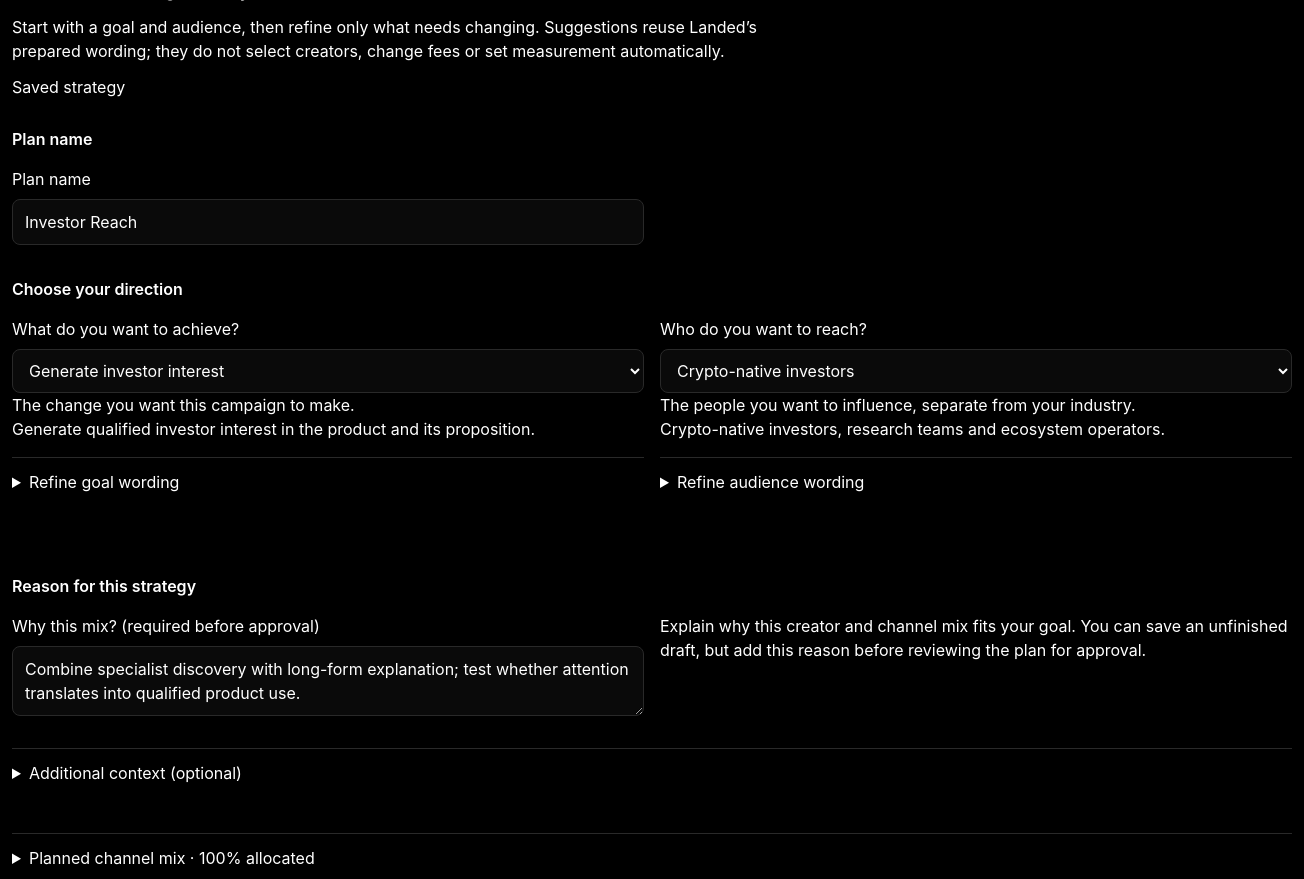
Test: BSK-08 rendered strategy editor › notifies the host only for confirmed saves (success=false)
The width and height of the screenshot is (1304, 879).
Replace the text in the field labelled "Plan name" with "Updated test plan": (328, 222) x1=12 y1=199 x2=644 y2=245
(page scrolled)
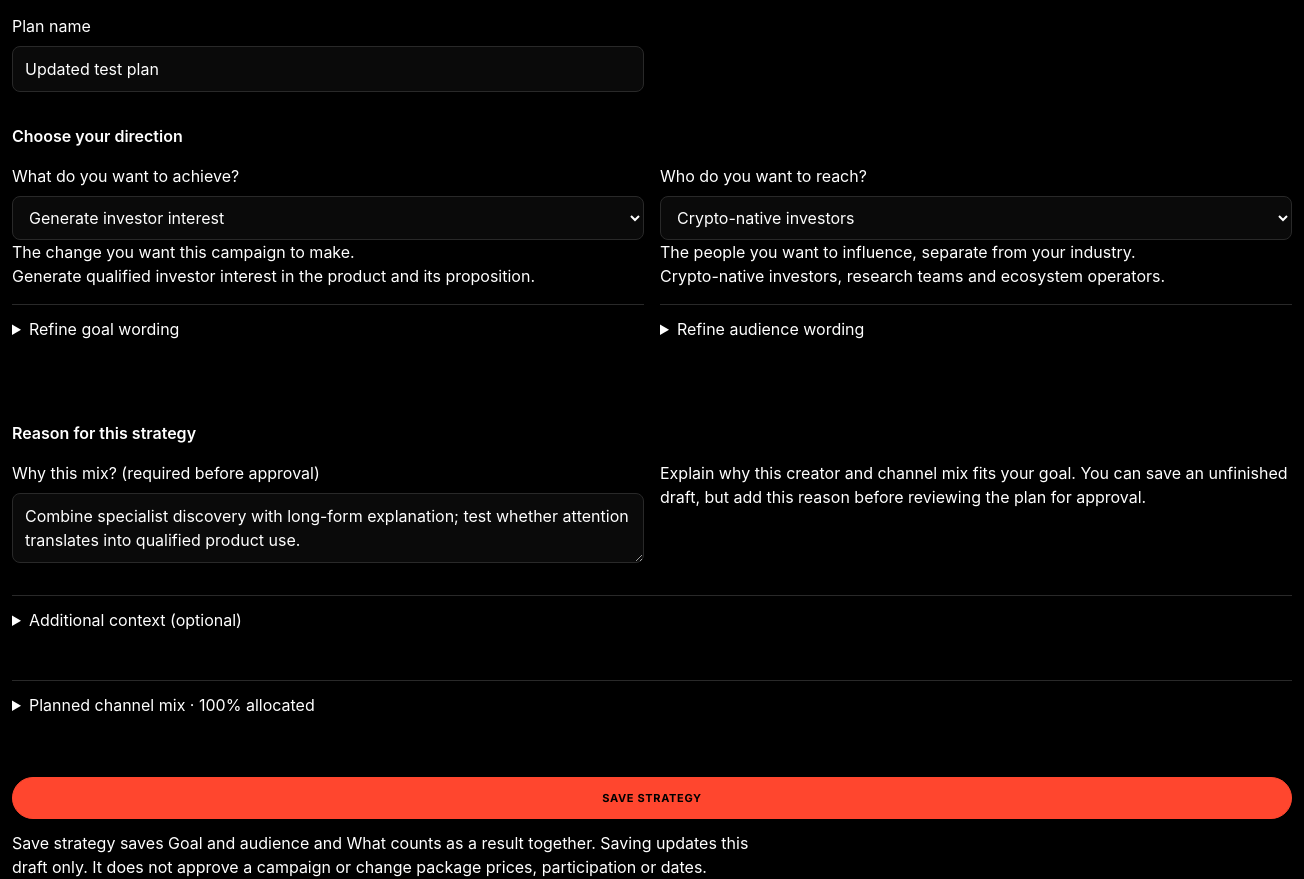
Click the button "Save strategy": (652, 798) x1=12 y1=777 x2=1292 y2=819
(page scrolled)
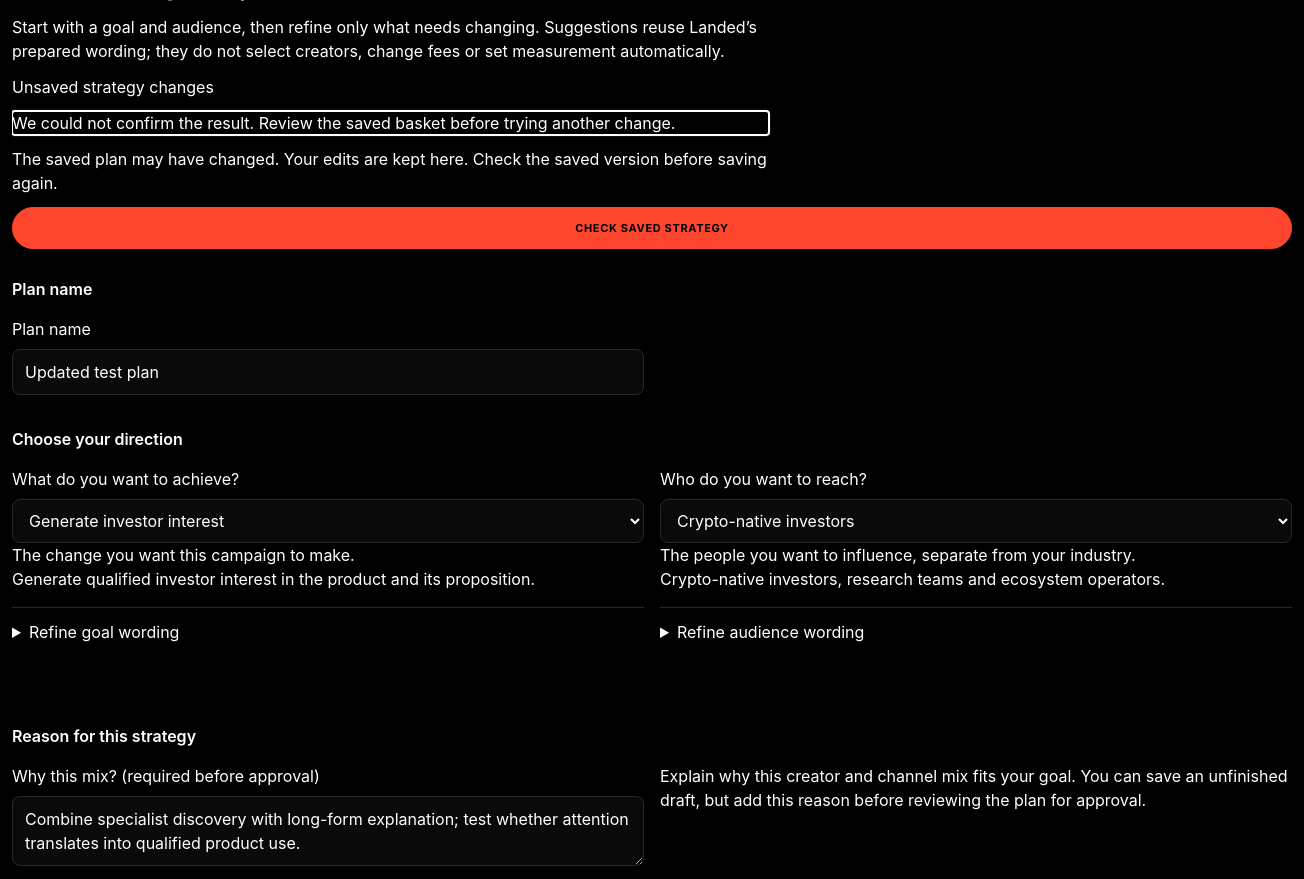
Check: the button "Check saved strategy" is shown, box x1=12 y1=207 x2=1292 y2=249
